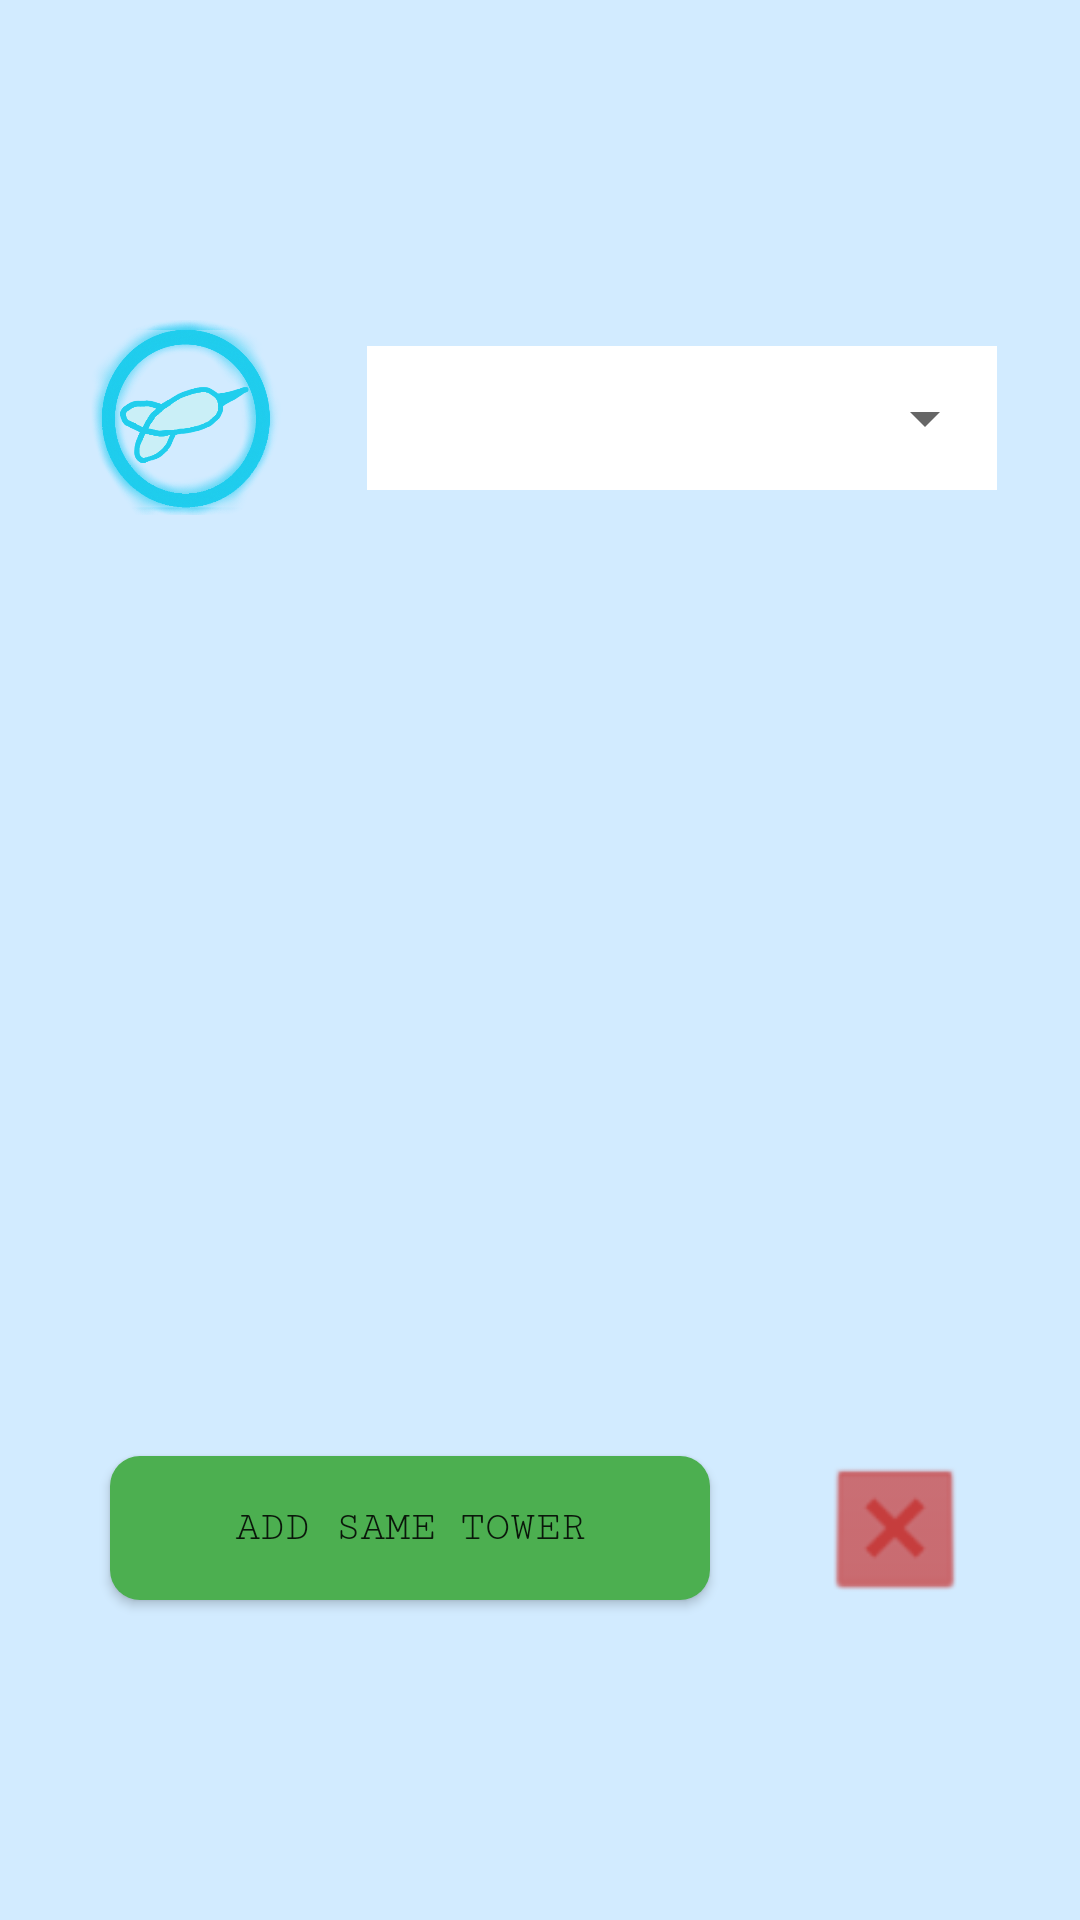

Locate icon controls on the screen. Image size 1080 x 1920, boxes as BBox(x1, y1, x2, y2).
A symbol for dart monkeys: BBox(95, 322, 274, 514)
